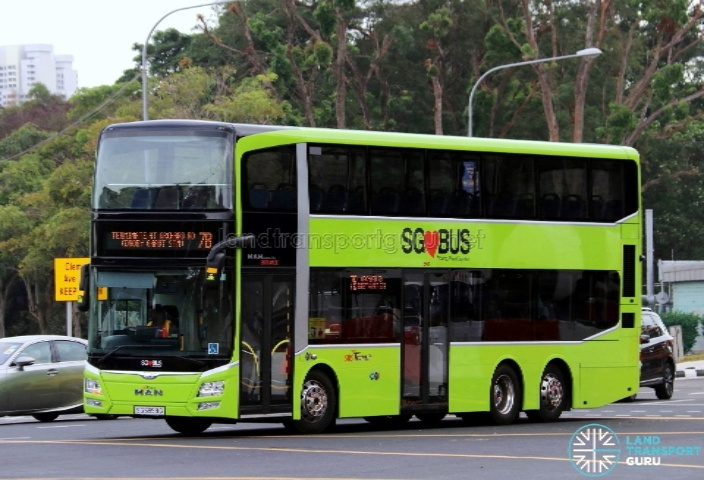bus: (71, 101, 663, 429)
car: (2, 325, 103, 425)
